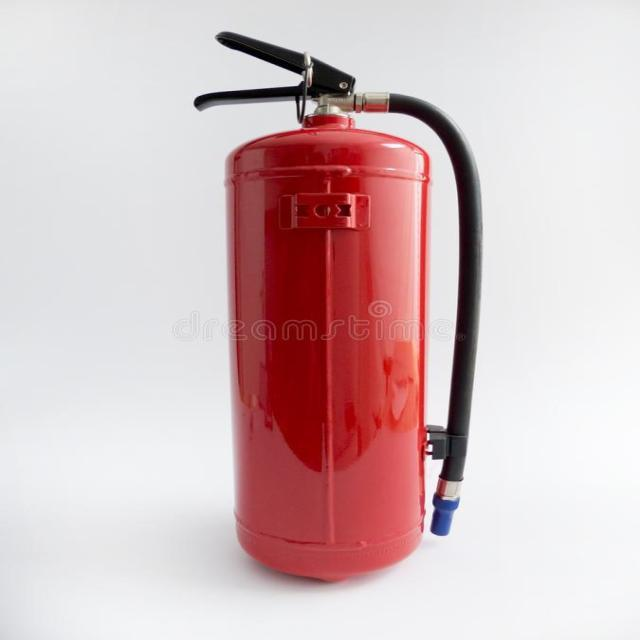fire_extinguisher: (187, 29, 492, 586)
